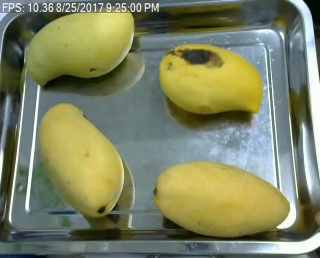Mango: (150, 157, 291, 239), (39, 101, 125, 222), (23, 7, 137, 86), (155, 41, 262, 117)
